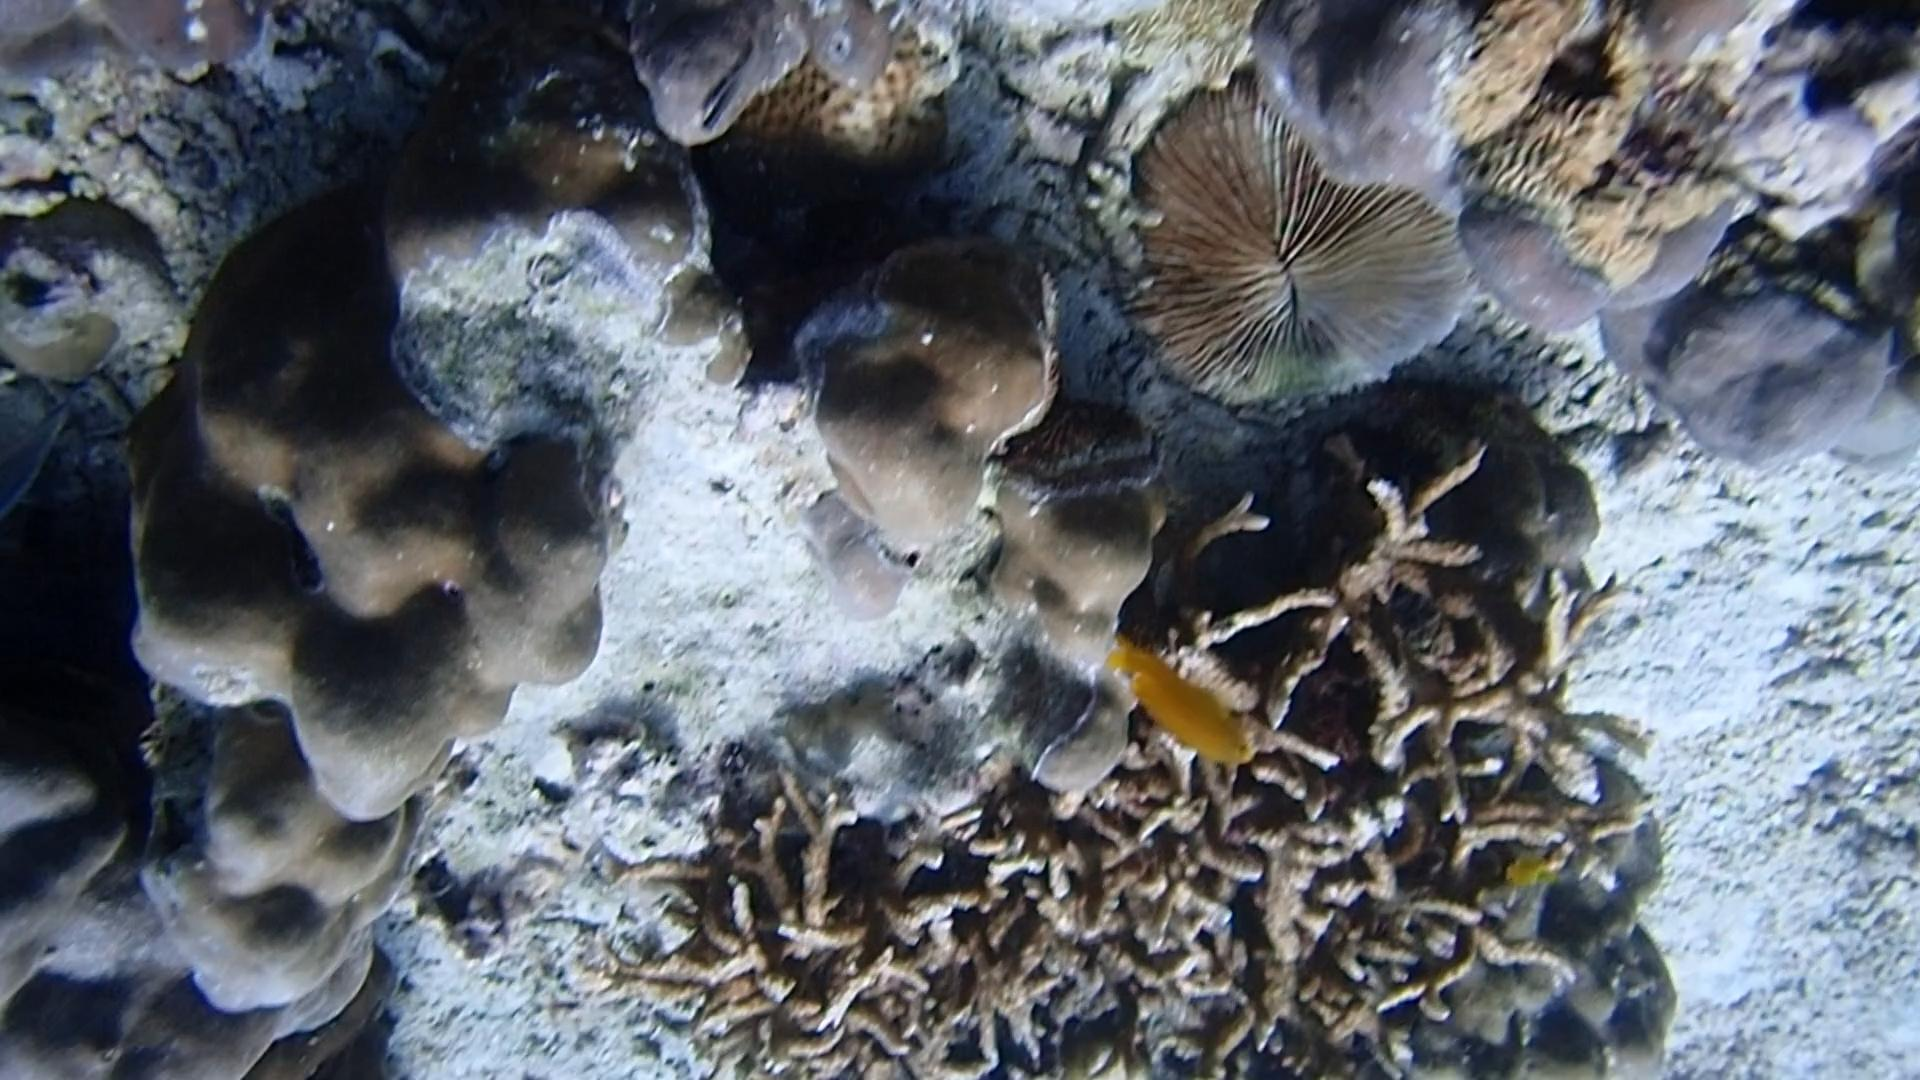Yellow Fish: (1096, 621, 1250, 775), (1495, 848, 1552, 893)
